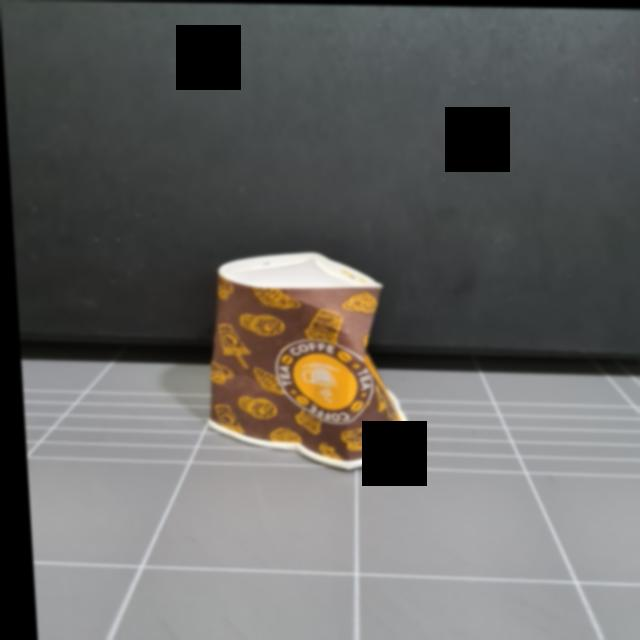cups: (183, 250, 416, 462)
